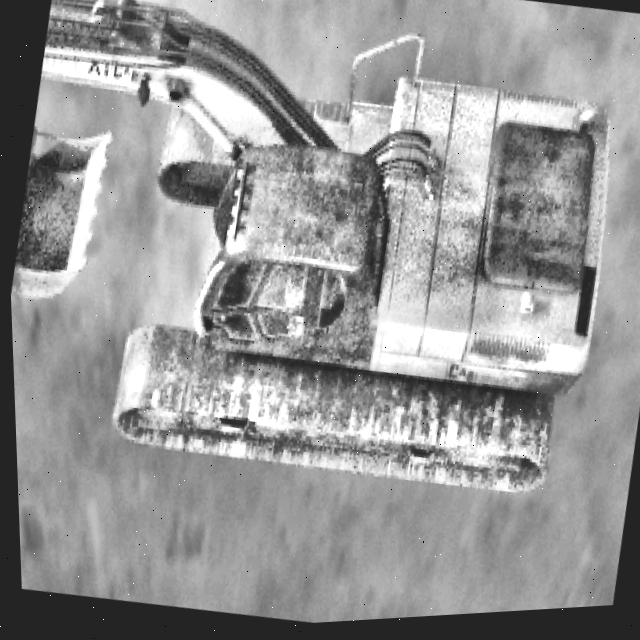excavator: (0, 0, 640, 528)
